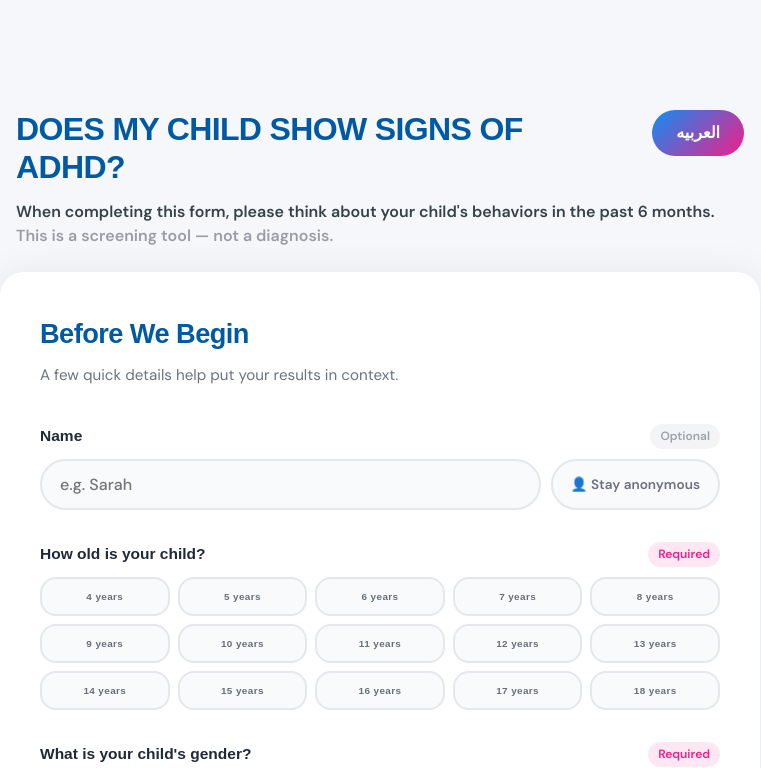
Test: Quiz — Intake screen › Start button enables once age, gender and suspect fields are filled
Click the button "8 years": (655, 596) [590,577,720,616]
(page scrolled)
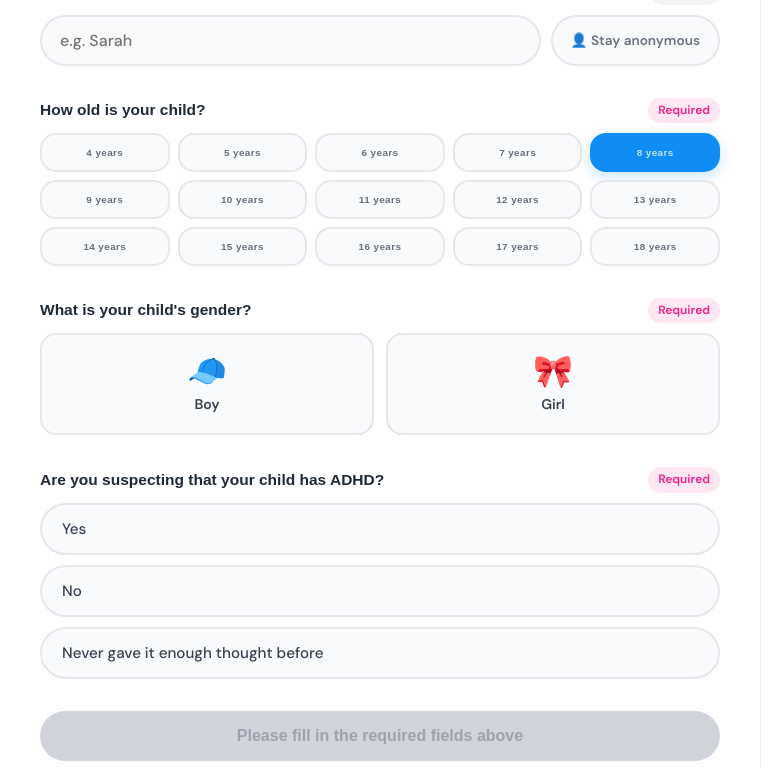
Click the button "🧢 Boy": (207, 384) [40,333,374,436]
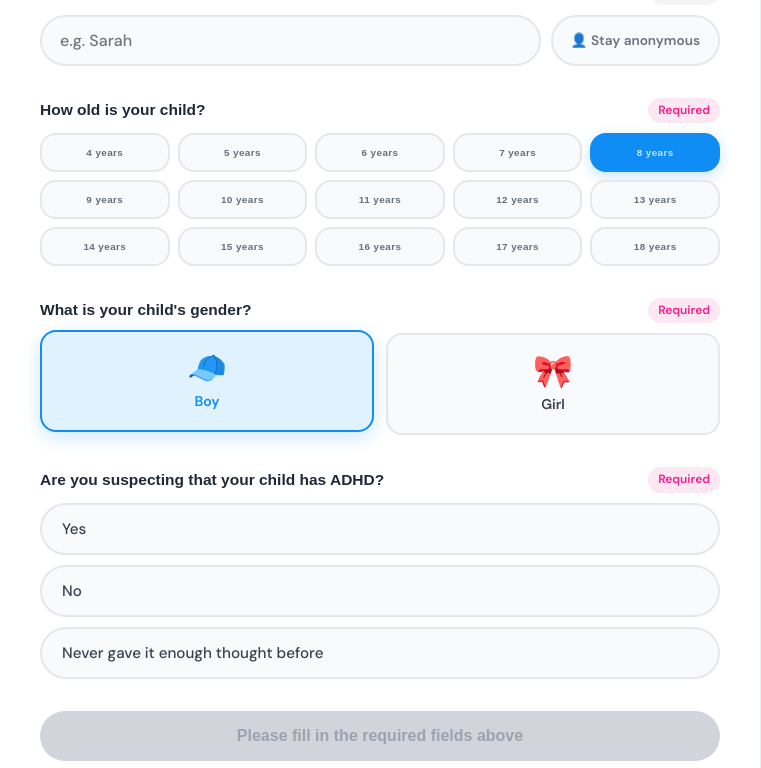
Click the button "Yes": (74, 529) [40,503,720,555]
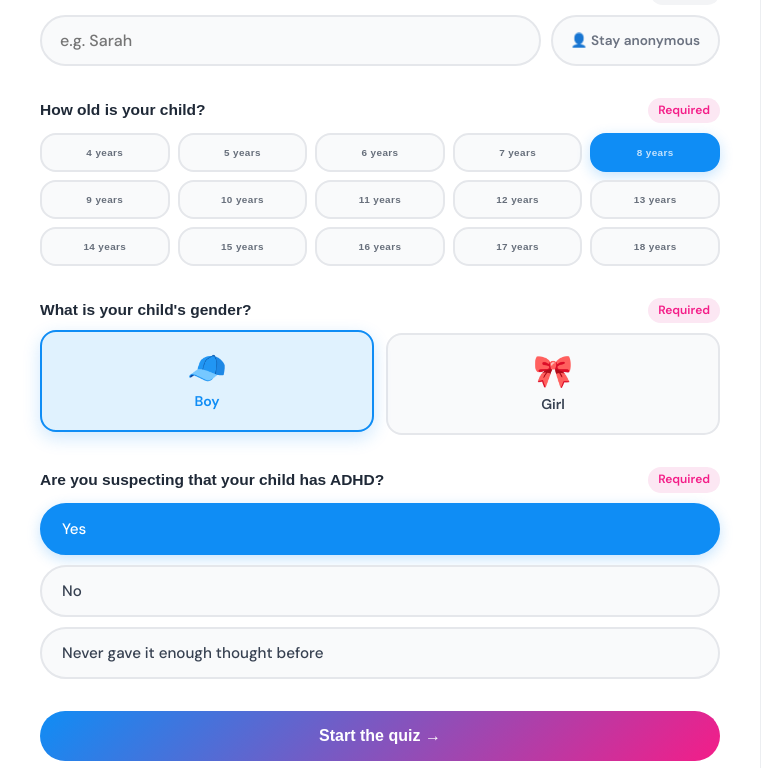
Expected: the button "Start the quiz →" is enabled, [40,711,720,761]
